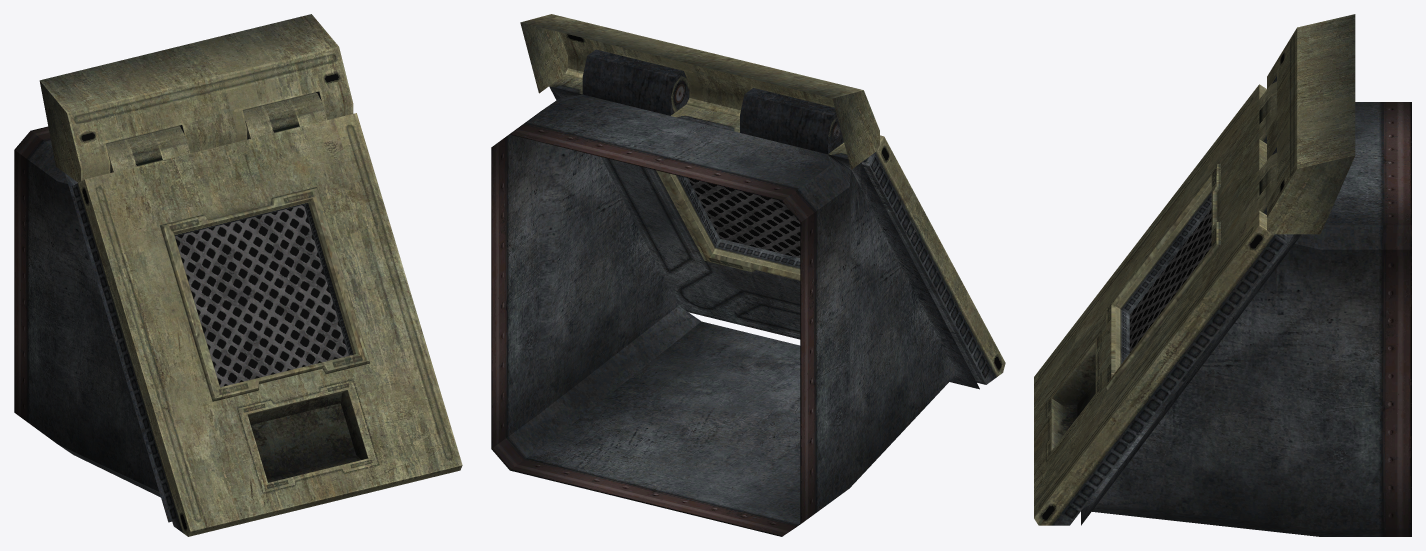
The model's file is hatch_tunnel_escape_window.dae.
3 renders of one model, left to right at view 1: azimuth 30°, elevation 25°; view 2: azimuth 150°, elevation 25°; view 3: azimuth 270°, elevation 25°, orthographic. The views are drawn at different scales.
Parts seen in each view (by area): view 1: polySurface911, pCube76, grating; view 2: pCube76, polySurface911, grating; view 3: pCube76, polySurface911, grating.
Part boxes in pixels (x1=…): polySurface911: x1=72, y1=92, x2=462, y2=536; pCube76: x1=14, y1=14, x2=353, y2=522; grating: x1=175, y1=205, x2=348, y2=387; pCube76: x1=491, y1=14, x2=979, y2=536; polySurface911: x1=565, y1=70, x2=1005, y2=384; grating: x1=687, y1=178, x2=800, y2=257; pCube76: x1=1081, y1=14, x2=1411, y2=536; polySurface911: x1=1034, y1=81, x2=1286, y2=525; grating: x1=1129, y1=209, x2=1211, y2=352.
Bounding box in the file's own units: 1.38 × 1.77 × 1.55.
